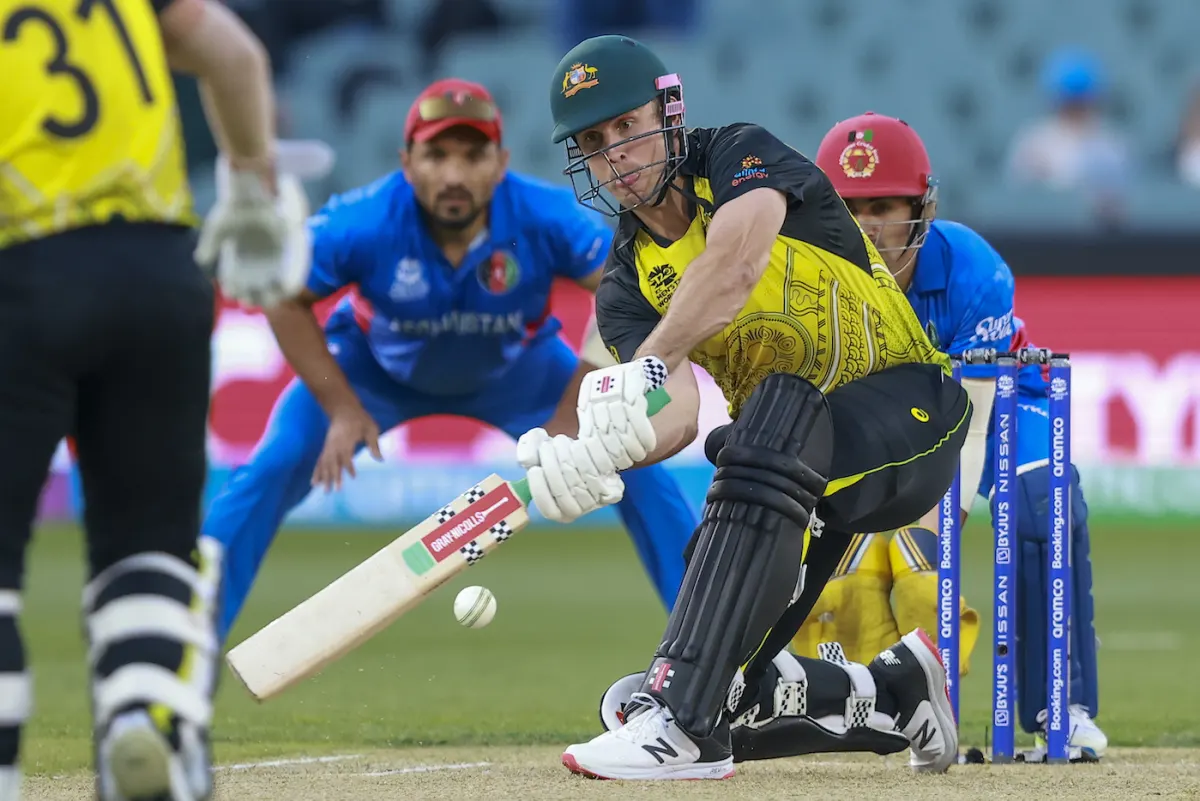Sweepshot: (257, 0, 1007, 801)
